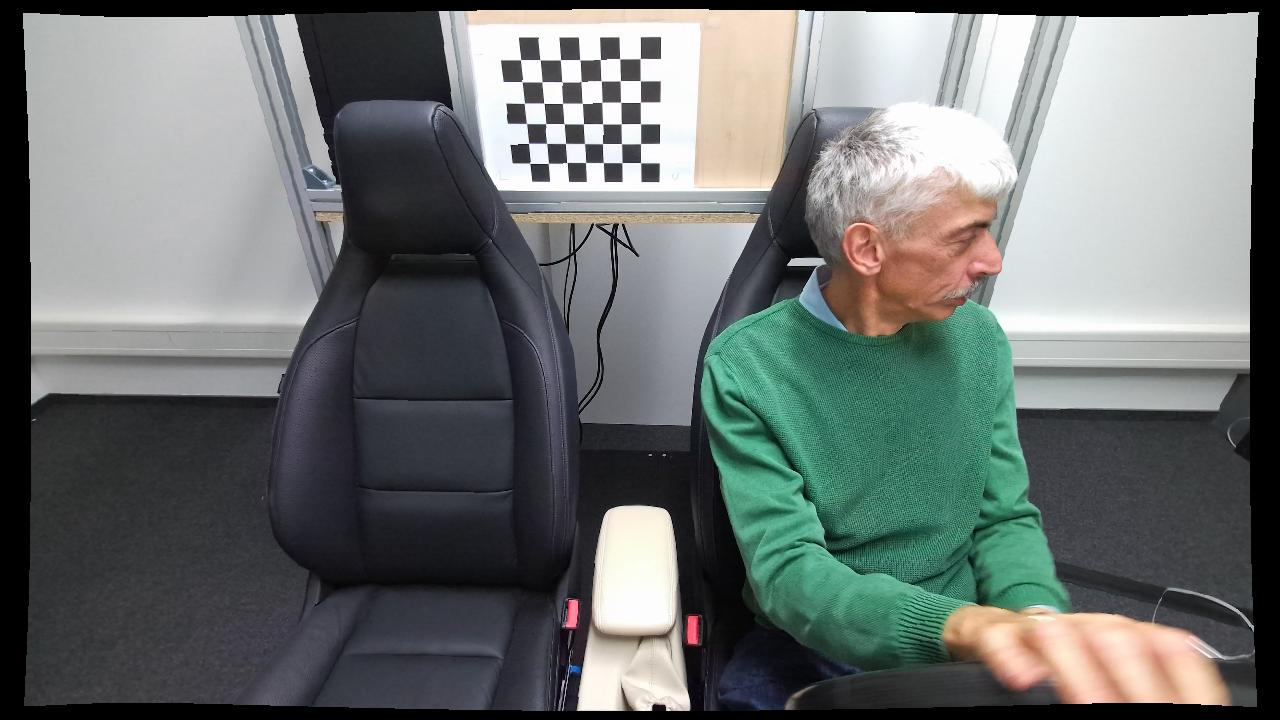Distracted: (701, 97, 1160, 715)
